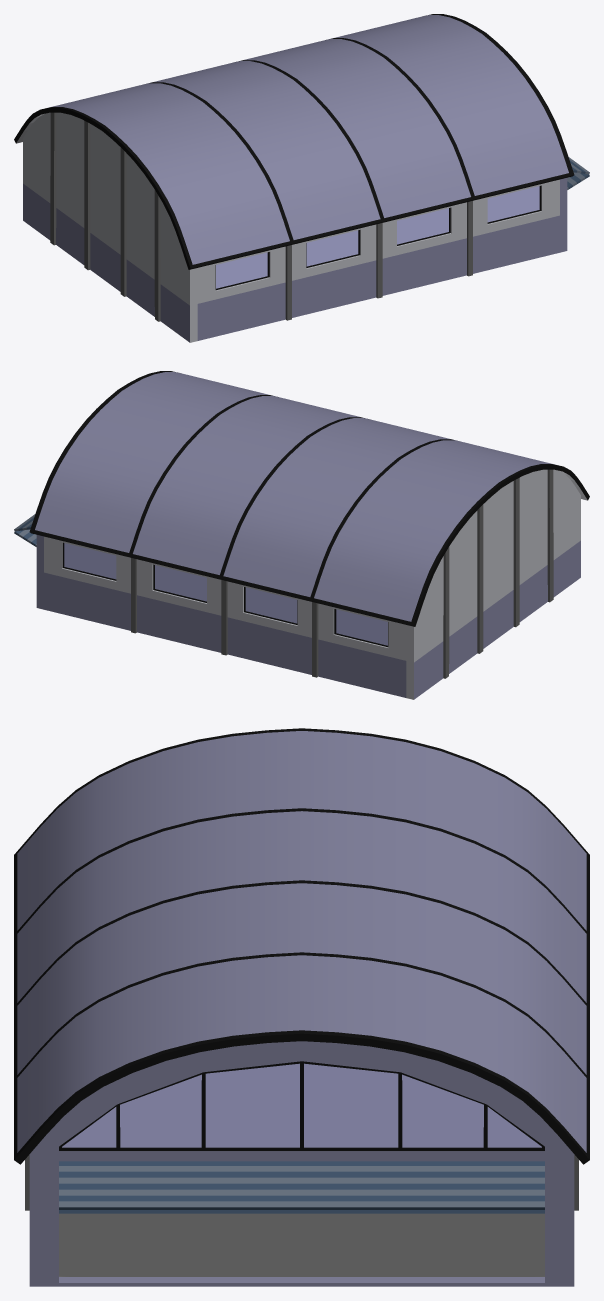
File: airplane hanger.fbx
3 renders of one model, top to bottom at view 1: azimuth 30°, elevation 25°; view 2: azimuth 150°, elevation 25°; view 3: azimuth 270°, elevation 25°, orthographic. The views are drawn at different scales.
Visible parts, largest first — view 1: 04.Hangar; view 2: 04.Hangar; view 3: 04.Hangar.
Boxes of the visible parts, x1=… form: 04.Hangar: x1=14, y1=14, x2=589, y2=342; 04.Hangar: x1=14, y1=371, x2=589, y2=699; 04.Hangar: x1=14, y1=728, x2=589, y2=1286.
Size of the model in its own units: 6820 by 2466 by 5050.
